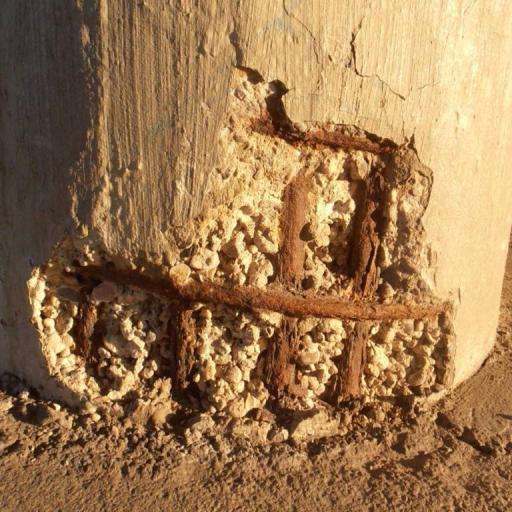spalling: (22, 65, 460, 416)
